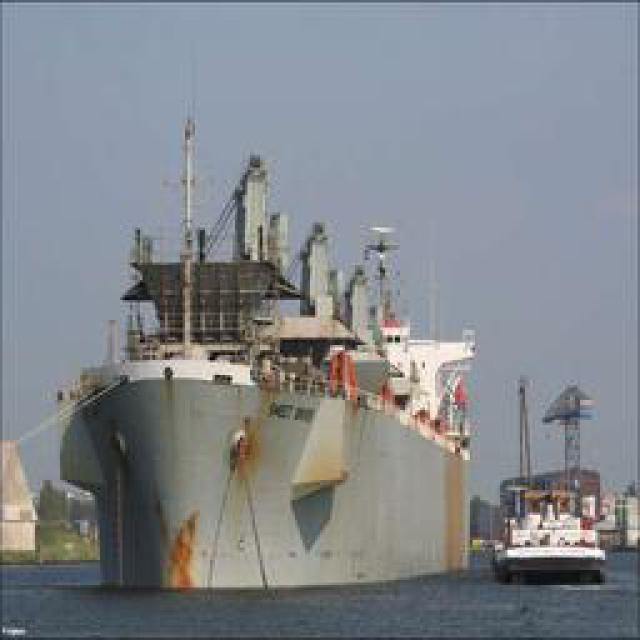Ship: (60, 158, 484, 609), (494, 400, 609, 590)
